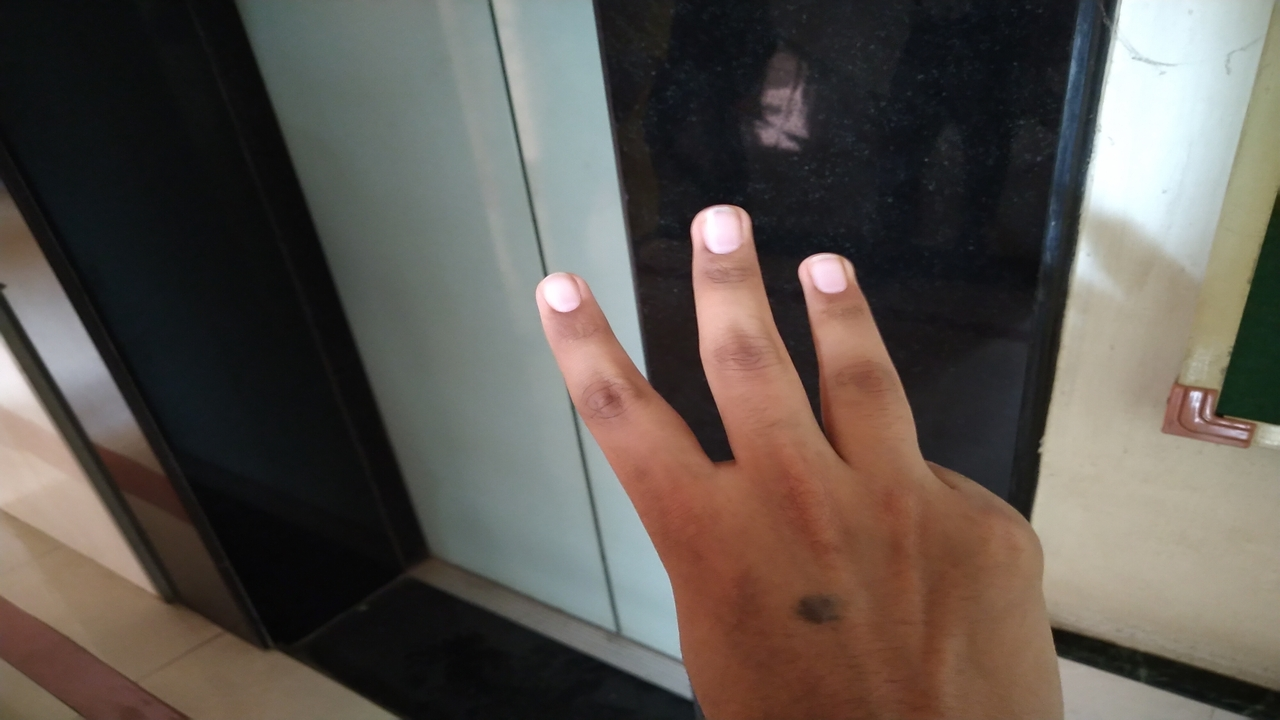fingertip: (686, 196, 762, 264), (524, 266, 596, 328), (794, 246, 862, 308)
